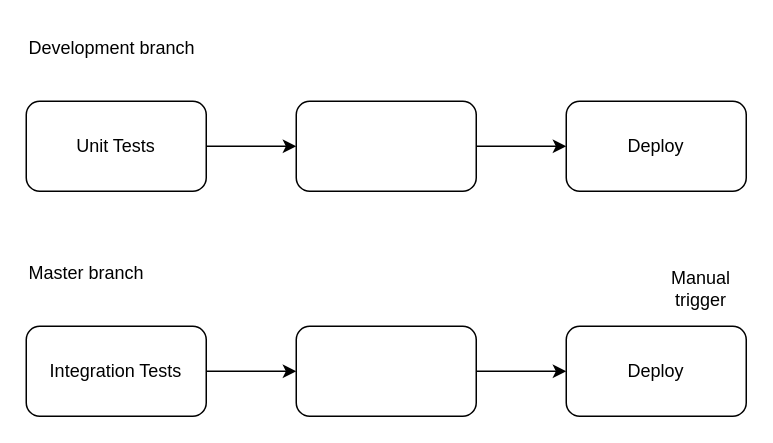
This 773x443 diagram has some shape labels left out. Here are the shapes that lost their labels. From the top down, the centre of each, then its label:
At point 385,145: "Build".
At point 385,370: "Security check".
